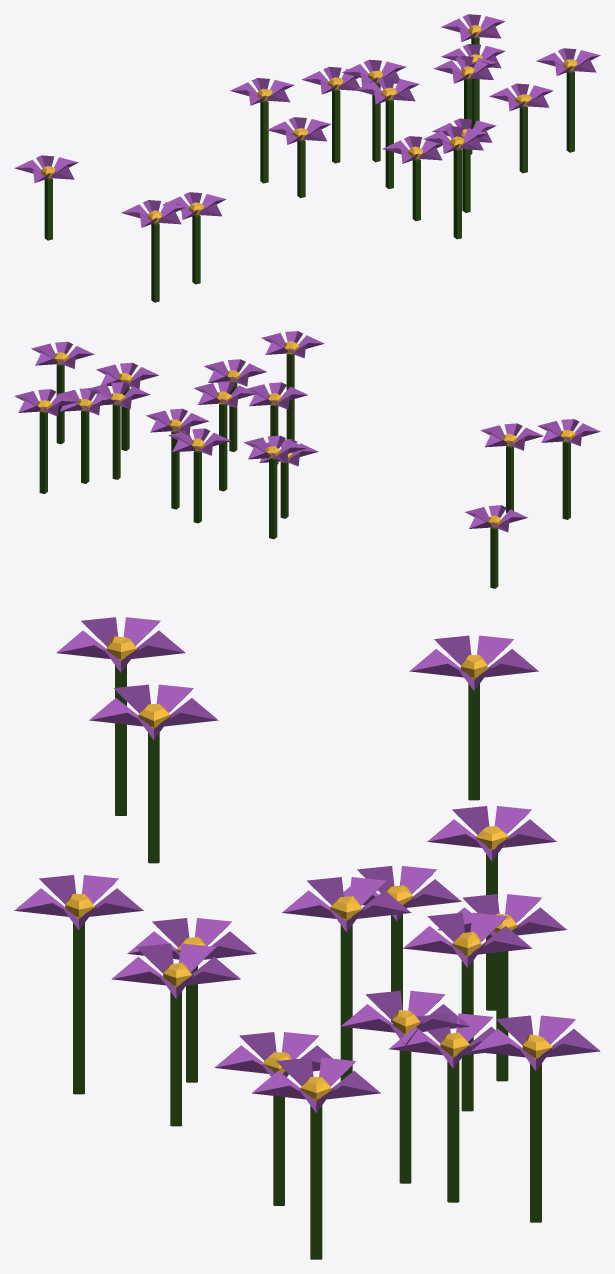
File: bed_flowers_3.obj
The picture shows the model from 3 angles, top to bottom: view 1: azimuth 30°, elevation 25°; view 2: azimuth 150°, elevation 25°; view 3: azimuth 270°, elevation 25°; orthographic projection. The views are drawn at different scales.
Parts seen in each view (by area): view 1: bed_flowers_3; view 2: bed_flowers_3; view 3: bed_flowers_3.
Part boxes in pixels (box(x1,y1,x2,y2)): bed_flowers_3: box(14, 14, 600, 302); bed_flowers_3: box(14, 331, 600, 588); bed_flowers_3: box(14, 617, 600, 1259).
Bounding box in the file's own units: 4.07 × 0.7469 × 1.97.
